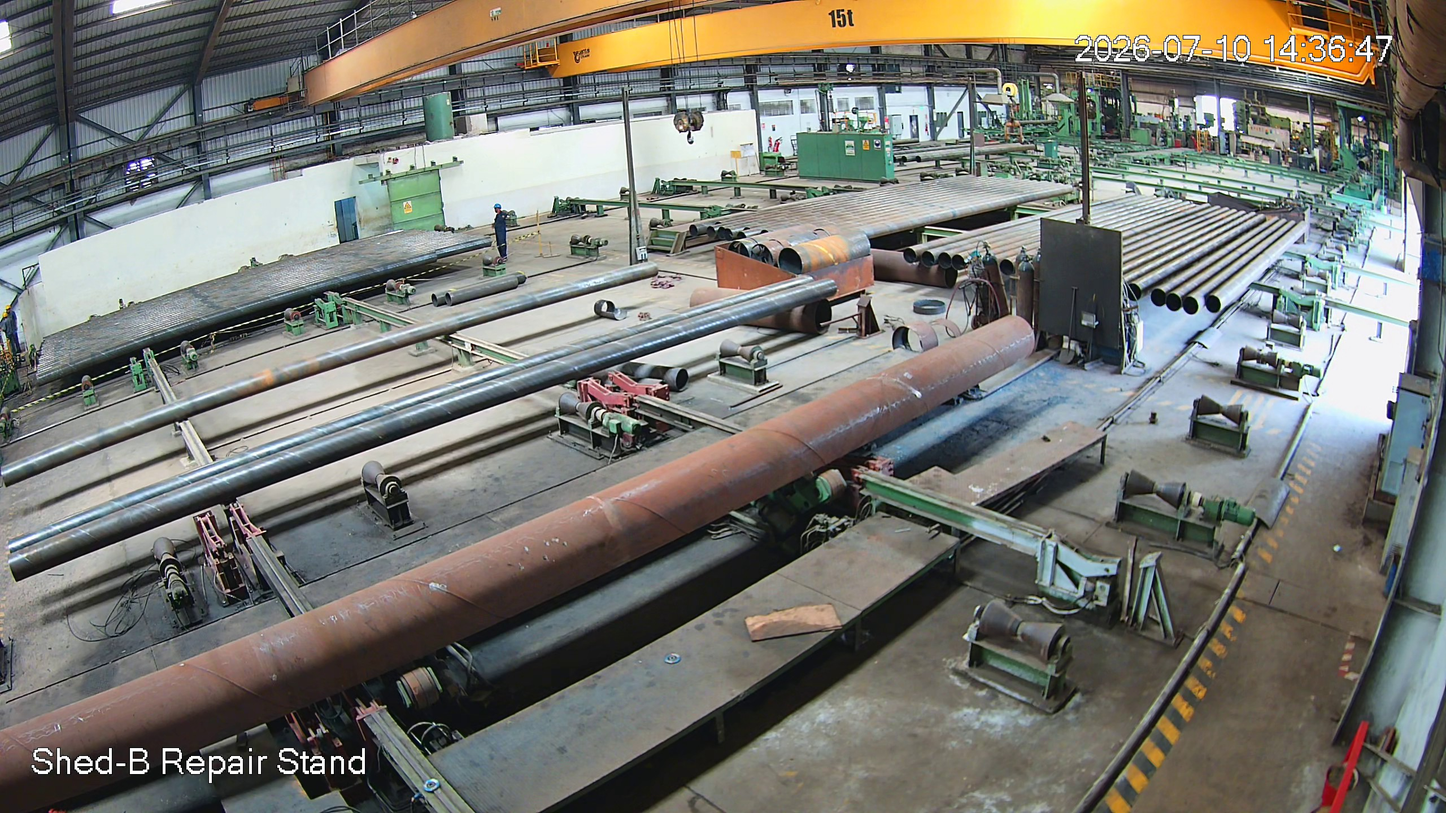Helmet: (492, 202, 506, 221)
Person: (489, 204, 510, 264)
